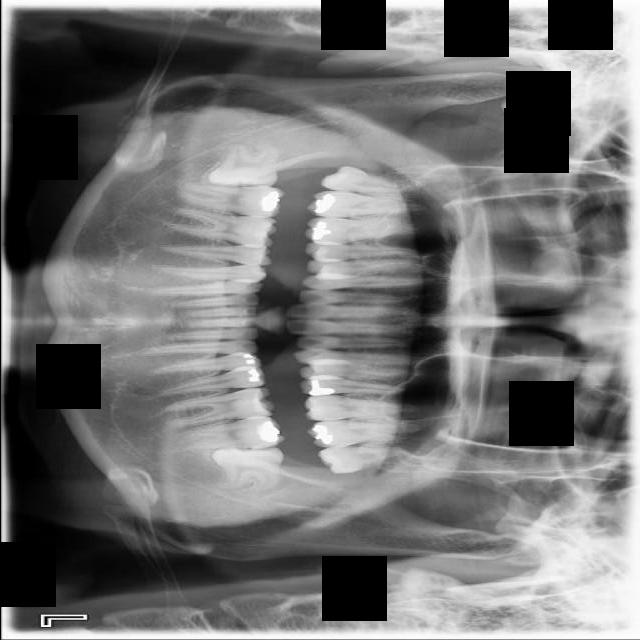3M ESPE Implant: (319, 165, 424, 196)
52: (234, 179, 286, 223), (304, 415, 358, 454), (236, 412, 285, 452), (303, 216, 355, 247), (308, 191, 356, 218), (298, 373, 345, 396), (223, 365, 266, 389), (219, 351, 262, 373)
73: (113, 561, 122, 572)
BioHorizons Implant: (304, 409, 423, 451)
BioLife Implant: (317, 445, 431, 474)
Biomet 3i Implant: (210, 445, 284, 492)
Blue Sky Bio Implant: (177, 416, 285, 452)
Caries: (305, 187, 427, 219)
Implant: (172, 172, 285, 222)
Keystone Dental Implant: (207, 141, 281, 190)
